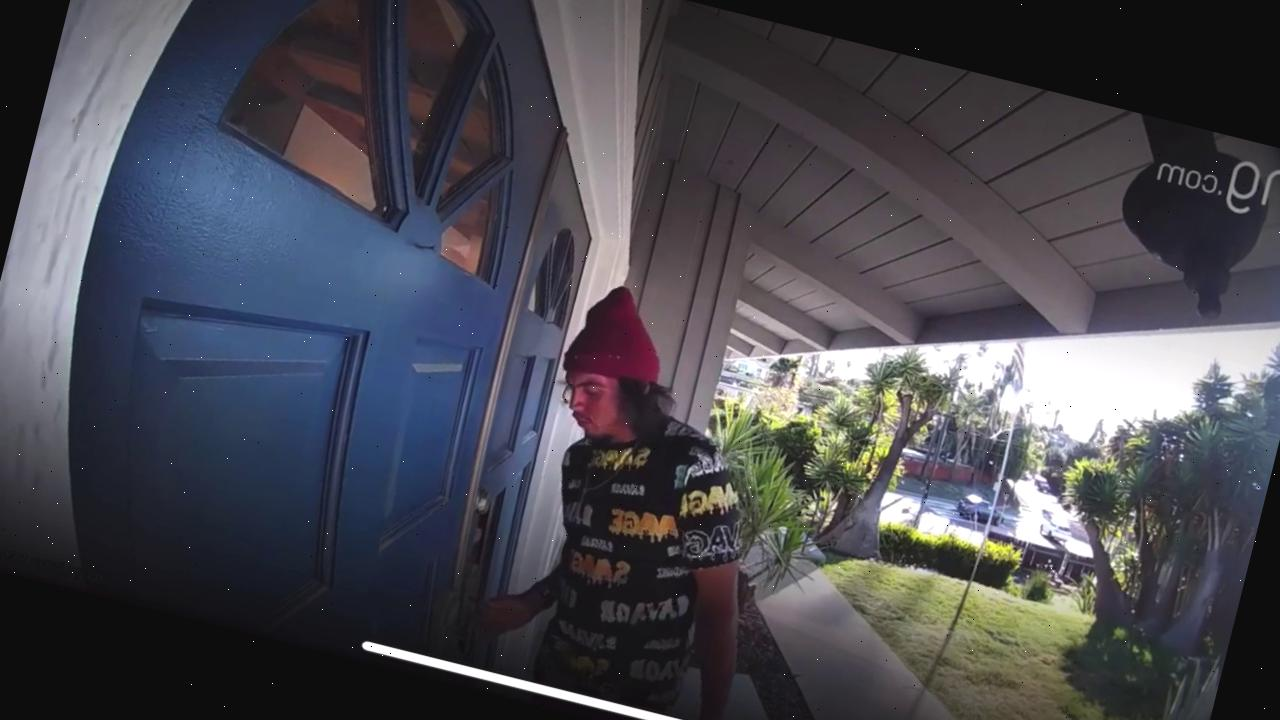suspicion: (405, 205, 861, 720)
